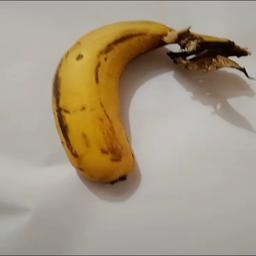Banana Semifresh: (51, 19, 247, 189)
